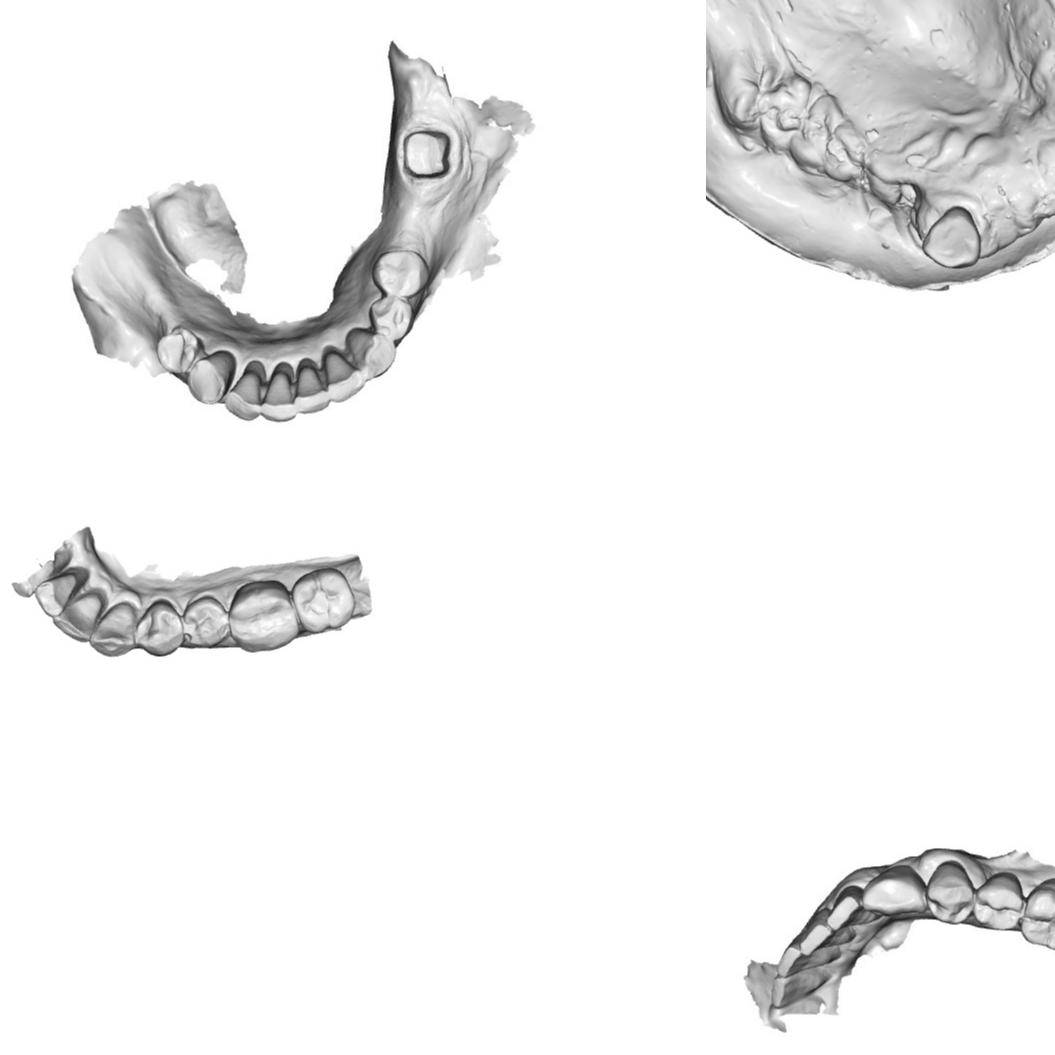canine: (920, 202, 982, 271), (860, 861, 928, 918), (88, 601, 138, 659), (348, 329, 398, 379), (187, 352, 235, 404)
crown: (399, 126, 453, 181)
incisor: (51, 596, 104, 643), (292, 363, 334, 417), (33, 574, 80, 618), (768, 970, 819, 1010), (256, 374, 297, 423), (221, 371, 259, 423), (327, 357, 365, 404), (826, 885, 863, 932), (774, 943, 821, 978), (796, 921, 832, 954)
molar: (229, 579, 299, 653), (291, 564, 356, 635), (1018, 875, 1055, 954)
premolar: (926, 857, 976, 926), (972, 870, 1028, 930), (372, 248, 430, 304), (134, 597, 186, 658), (183, 593, 230, 650), (156, 324, 202, 378), (365, 295, 412, 341)
